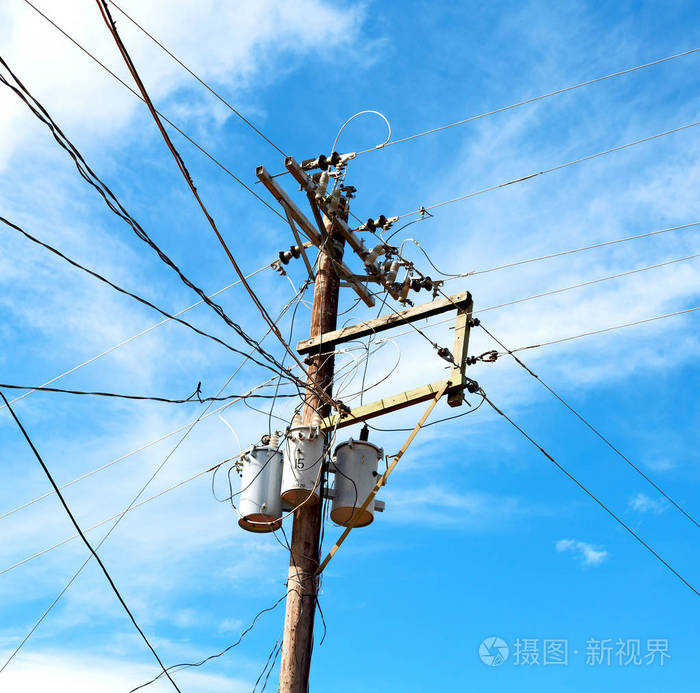insulator: (365, 212, 388, 232), (316, 151, 339, 171), (278, 243, 297, 263)
